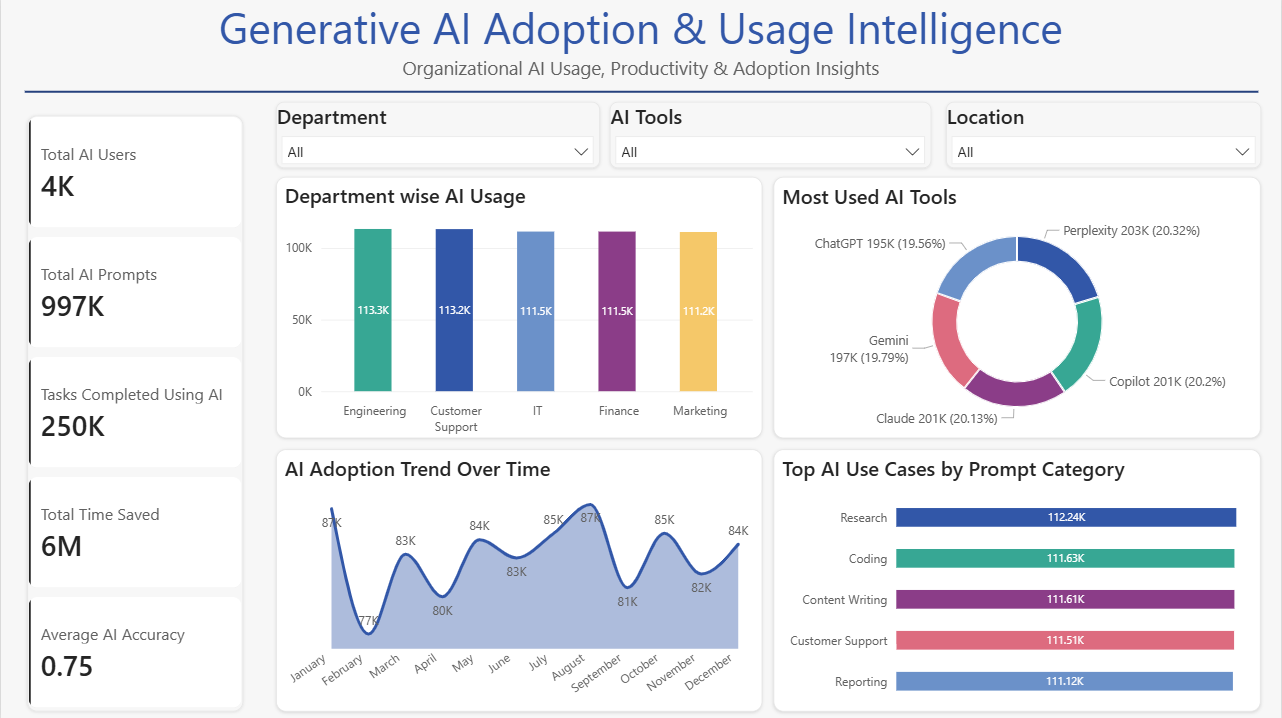

The page's visual inventory and layout, read from the dashboard file:
{"tool":"powerbi","page":{"name":"Page 1","canvas":[1280,720],"ordinal":0},"visuals":[{"type":"lineChart","title":"AI Adoption Trend Over Time","fields":{"Y":["Sum(ai_usage_dataset_new30.prompts_used)"],"Category":["ai_usage_dataset_new30.date.Variation.Date Hierarchy.Month"]},"box":[275,451.2,486.2,262.5],"z":0},{"type":"columnChart","title":"Department wise AI Usage","fields":{"Category":["ai_usage_dataset_new30.department"],"Y":["Sum(ai_usage_dataset_new30.prompts_used)"],"Series":["ai_usage_dataset_new30.department"]},"box":[275,178.8,486.2,261.2],"z":1000},{"type":"donutChart","title":"Most Used AI Tools","fields":{"Category":["ai_usage_dataset_new30.tool_used"],"Y":["Sum(ai_usage_dataset_new30.prompts_used)"]},"box":[772.5,178.8,487.5,261.2],"z":2000},{"type":"textbox","box":[0,0,1279.7,93.2],"z":3000},{"type":"cardVisual","fields":{"Data":["Count(ai_usage_dataset_new30.user_id)","Sum(ai_usage_dataset_new30.prompts_used)","ai_usage_dataset_new30.Total Tasks","ai_usage_dataset_new30.Time Saved","ai_usage_dataset_new30.Avg Accuracy"]},"box":[26.2,117.5,216.2,596.2],"z":4000},{"type":"barChart","title":"Top AI Use Cases by Prompt Category","fields":{"Y":["Sum(ai_usage_dataset_new30.prompts_used)"],"Category":["ai_usage_dataset_new30.prompt_category"],"Series":["ai_usage_dataset_new30.prompt_category"]},"box":[772.5,451.2,487.5,262.5],"z":5000},{"type":"slicer","title":"Department","fields":{"Values":["ai_usage_dataset_new30.department"]},"box":[275,103.8,323.8,66.2],"z":6000},{"type":"slicer","title":"AI Tools","fields":{"Values":["ai_usage_dataset_new30.tool_used"]},"box":[608.8,103.8,321.2,66.2],"z":7000},{"type":"slicer","title":"Location","fields":{"Values":["ai_usage_dataset_new30.location"]},"box":[945,103.8,315,66.2],"z":8000},{"type":"shape","box":[23.8,83.8,1233.8,20],"z":9000}]}

Visuals, with their boxes in screenshot pixels (x1, y1, x2, y2), scaled from the page's 1280x720 canvas onto the 1282x718 screenshot:
"AI Adoption Trend Over Time" lineChart: box(275, 450, 762, 712)
"Department wise AI Usage" columnChart: box(275, 178, 762, 439)
"Most Used AI Tools" donutChart: box(774, 178, 1262, 439)
textbox: box(0, 0, 1281, 93)
cardVisual - Count(ai_usage_dataset_new30.user_id) x Sum(ai_usage_dataset_new30.prompts_used): box(26, 117, 243, 712)
"Top AI Use Cases by Prompt Category" barChart: box(774, 450, 1262, 712)
"Department" slicer: box(275, 104, 600, 170)
"AI Tools" slicer: box(610, 104, 931, 170)
"Location" slicer: box(946, 104, 1262, 170)
shape: box(24, 84, 1260, 104)
